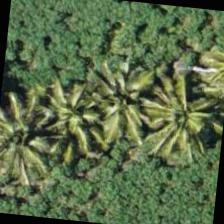Kelapa_Sawit: (22, 55, 121, 154), (70, 61, 168, 160), (132, 60, 223, 161), (0, 105, 67, 203)
